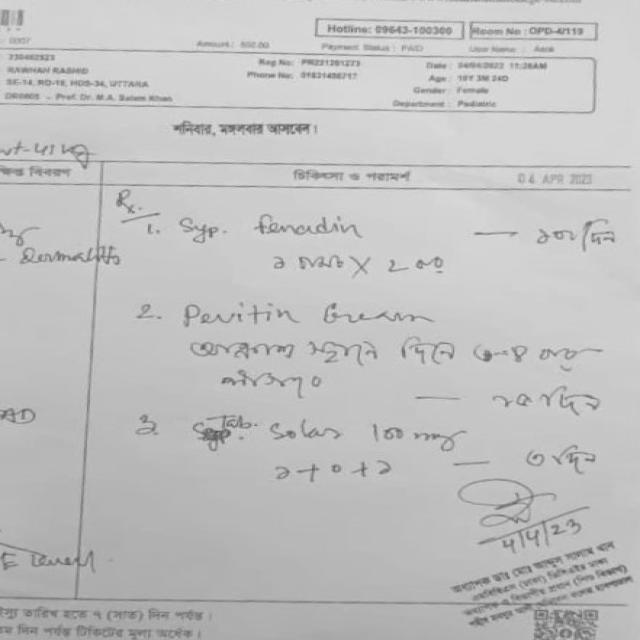medicine: (247, 208, 370, 246), (174, 298, 300, 332), (260, 416, 352, 446)
